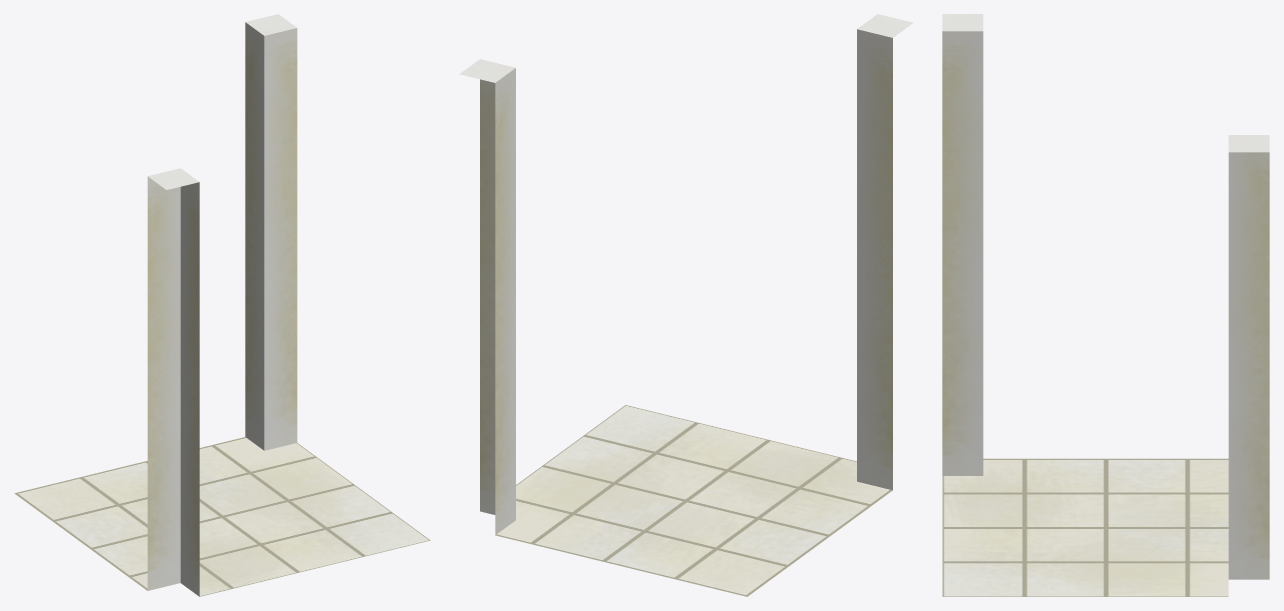
File: maze_4way2columnsDiagonal.FBX
3 views of the same model, side by side, from view 1: azimuth 30°, elevation 25°; view 2: azimuth 150°, elevation 25°; view 3: azimuth 270°, elevation 25° (orthographic). The views are drawn at different scales.
Parts seen in each view (by area): view 1: Plane01; view 2: Plane01; view 3: Plane01.
Boxes of the visible parts, x1=… form: Plane01: x1=14, y1=14, x2=430, y2=596; Plane01: x1=459, y1=14, x2=913, y2=596; Plane01: x1=942, y1=14, x2=1269, y2=596.
Size of the model in its own units: 32 by 48 by 32.
